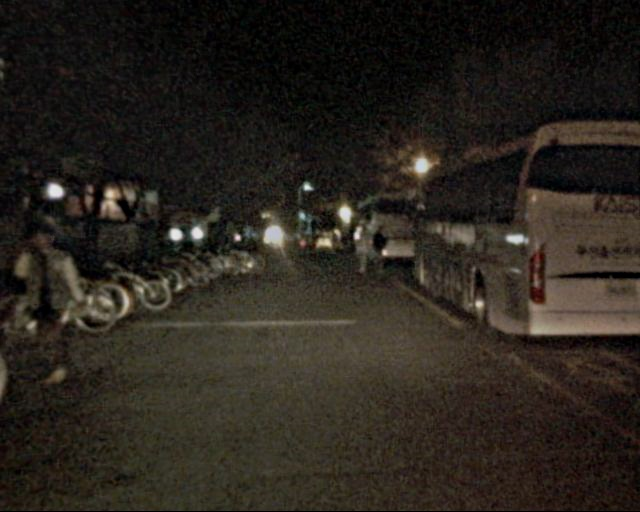person: (14, 221, 96, 394), (370, 231, 390, 279), (355, 230, 373, 275), (337, 229, 353, 268)
